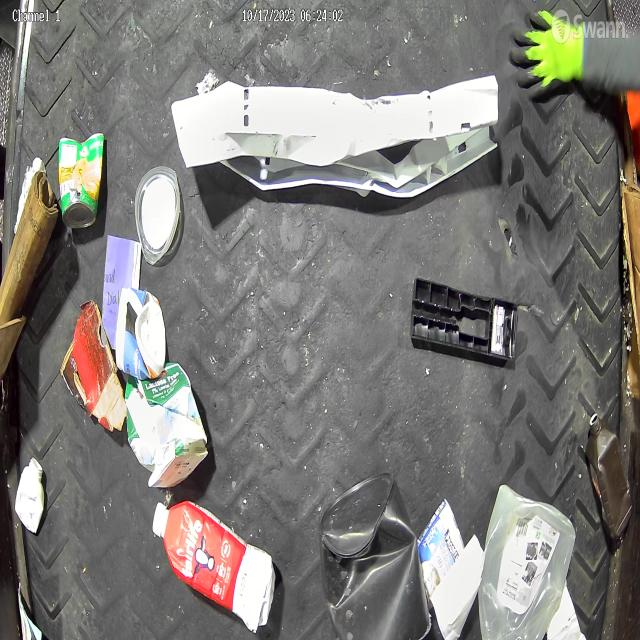can: (59, 134, 105, 228)
milk_jug: (478, 484, 576, 640)
non_white_jug: (319, 471, 431, 640), (125, 361, 209, 489), (586, 412, 632, 539)
